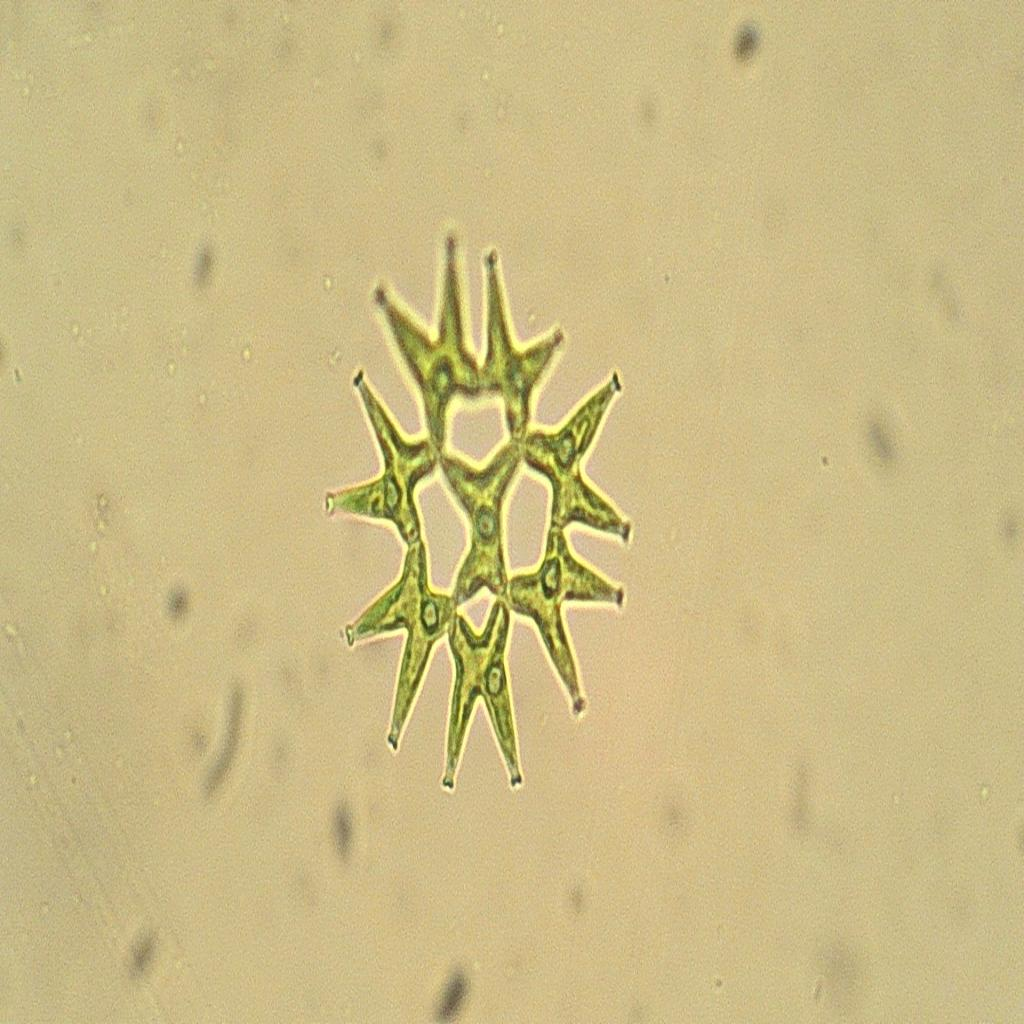Pediastrum_75T: (318, 203, 643, 815)
